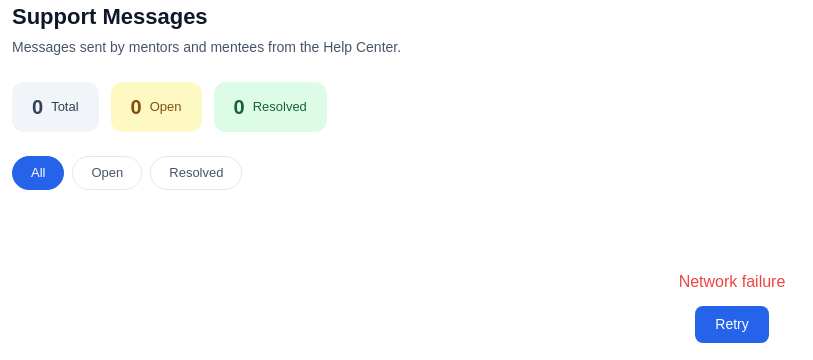
Scenario: AdminSupportMessages Component Specification › should display a loading state and surface a retry button upon network failure
This screenshot has width=813, height=360.
expect the text "Network failure" is shown: met, box [679,272,785,290]
Click the button "Retry". click: point(732, 324)
box: [695,306,769,342]
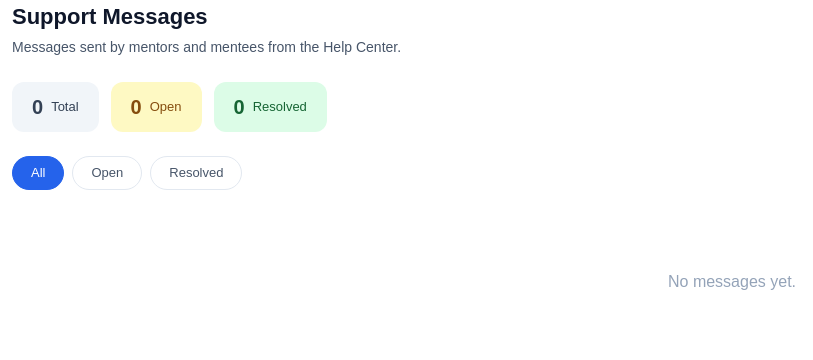
expect the text "No messages yet." is shown: met, box [668,272,796,290]
